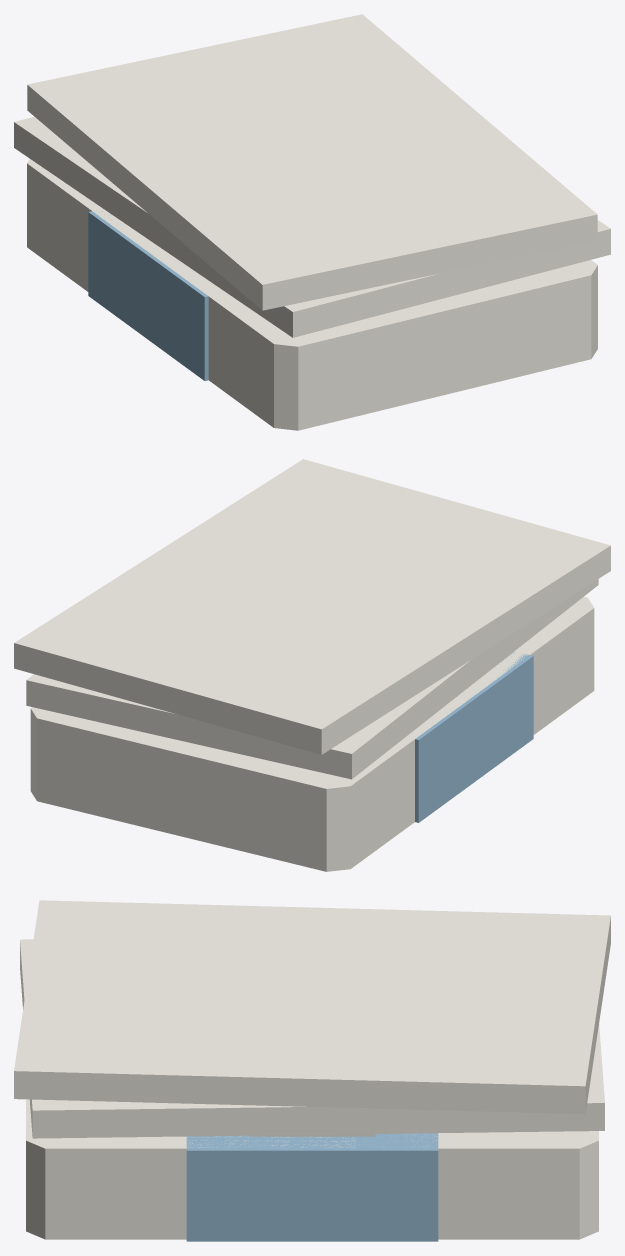
The model's file is SM_LPI_Office_PaperStack_01.fbx.
3 views of the same model, one above another, from view 1: azimuth 30°, elevation 25°; view 2: azimuth 150°, elevation 25°; view 3: azimuth 270°, elevation 25° (orthographic). The views are drawn at different scales.
Visible parts, largest first — view 1: SM_LPI_Office_PaperStack_01; view 2: SM_LPI_Office_PaperStack_01; view 3: SM_LPI_Office_PaperStack_01.
Part boxes in pixels (bbox=[...]): SM_LPI_Office_PaperStack_01: bbox=[14, 14, 610, 430]; SM_LPI_Office_PaperStack_01: bbox=[14, 459, 610, 871]; SM_LPI_Office_PaperStack_01: bbox=[14, 900, 610, 1241].
Bounding box in the file's own units: 0.2282 × 0.092 × 0.3096.
